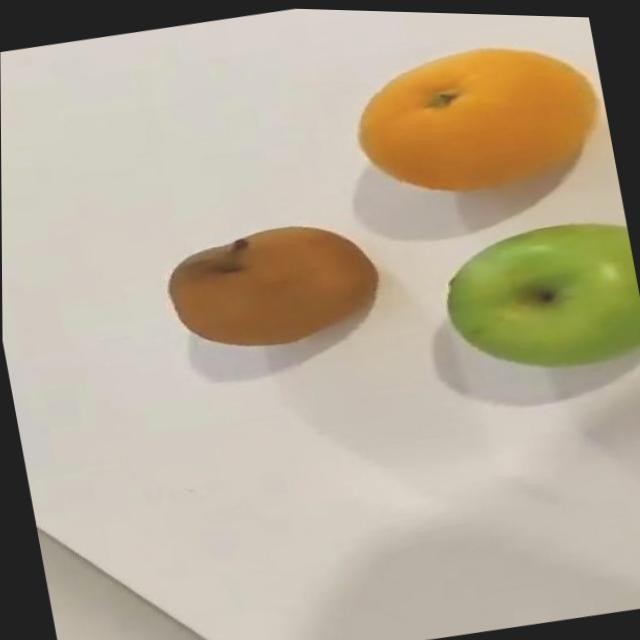Apple: (432, 205, 640, 384)
Orange: (343, 21, 611, 209)
